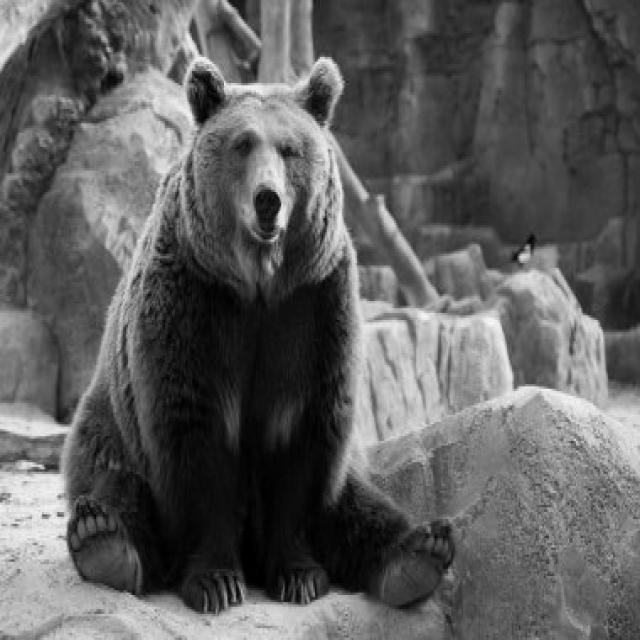Animal: (65, 58, 455, 611)
